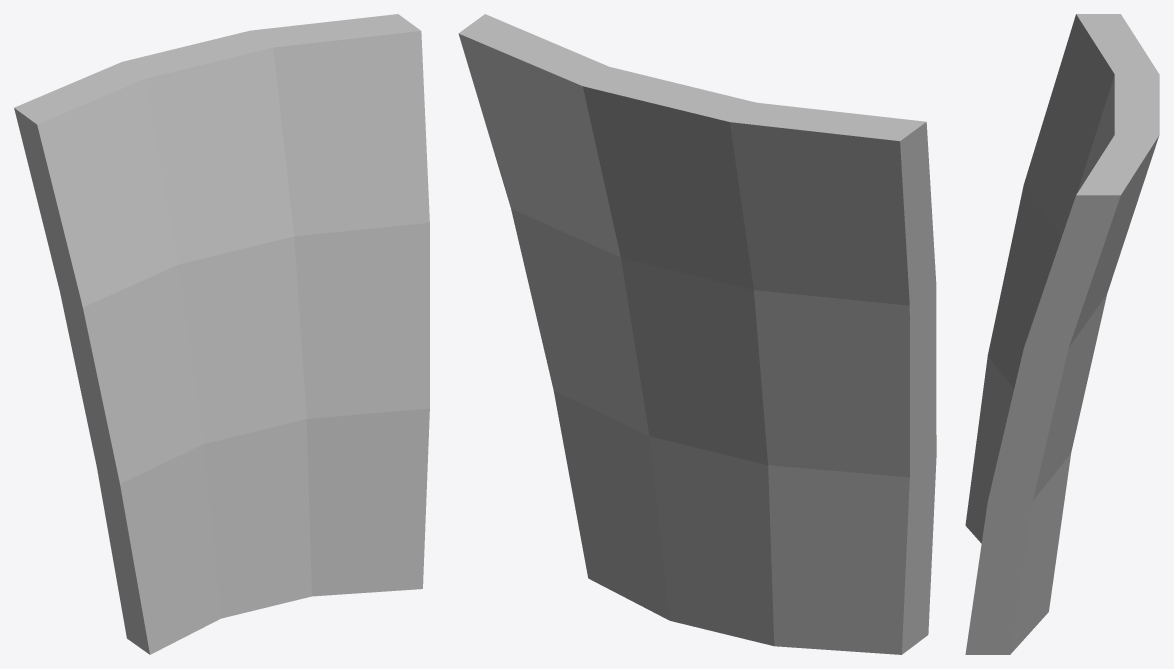
File: Itr_Chair2_Back_06.FBX
3 renders of one model, left to right at view 1: azimuth 30°, elevation 25°; view 2: azimuth 150°, elevation 25°; view 3: azimuth 270°, elevation 25°, orthographic. The views are drawn at different scales.
Parts seen in each view (by area): view 1: Itr_Chair2_Back_06; view 2: Itr_Chair2_Back_06; view 3: Itr_Chair2_Back_06.
Part boxes in pixels (x1=…): Itr_Chair2_Back_06: x1=14, y1=14, x2=429, y2=654; Itr_Chair2_Back_06: x1=458, y1=14, x2=936, y2=654; Itr_Chair2_Back_06: x1=965, y1=14, x2=1159, y2=654.
Bounding box in the file's own units: 15.44 × 19.3 × 6.99.
